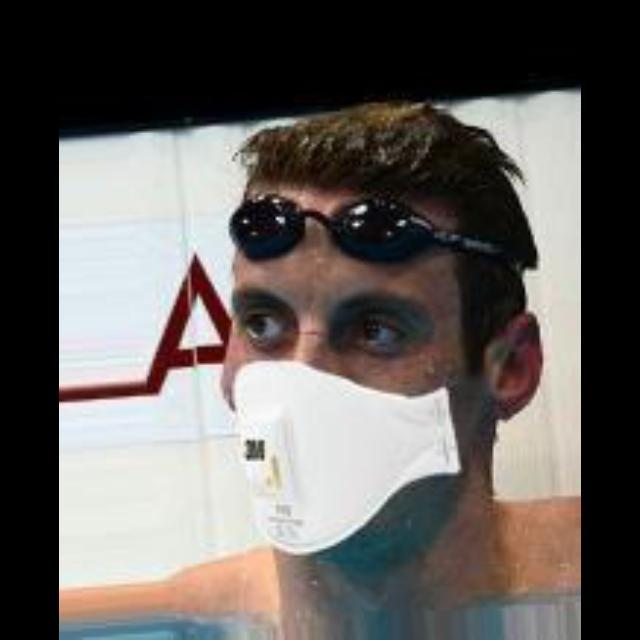suspicion: (205, 130, 577, 548)
